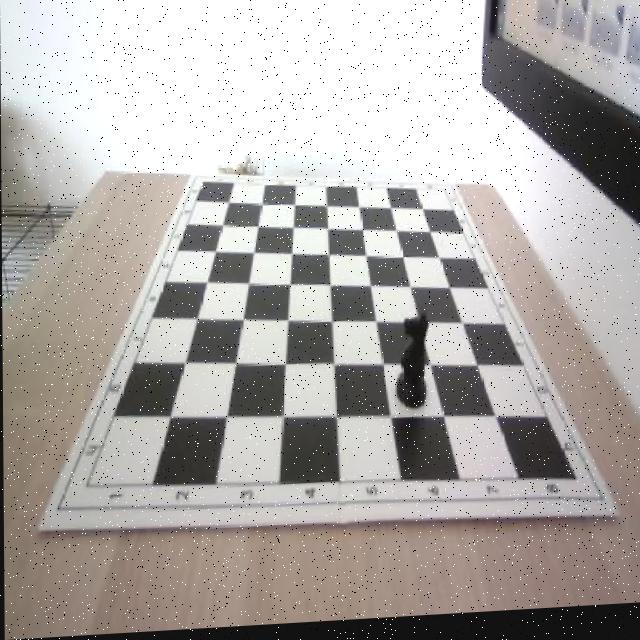black-king: (394, 314, 431, 416)
